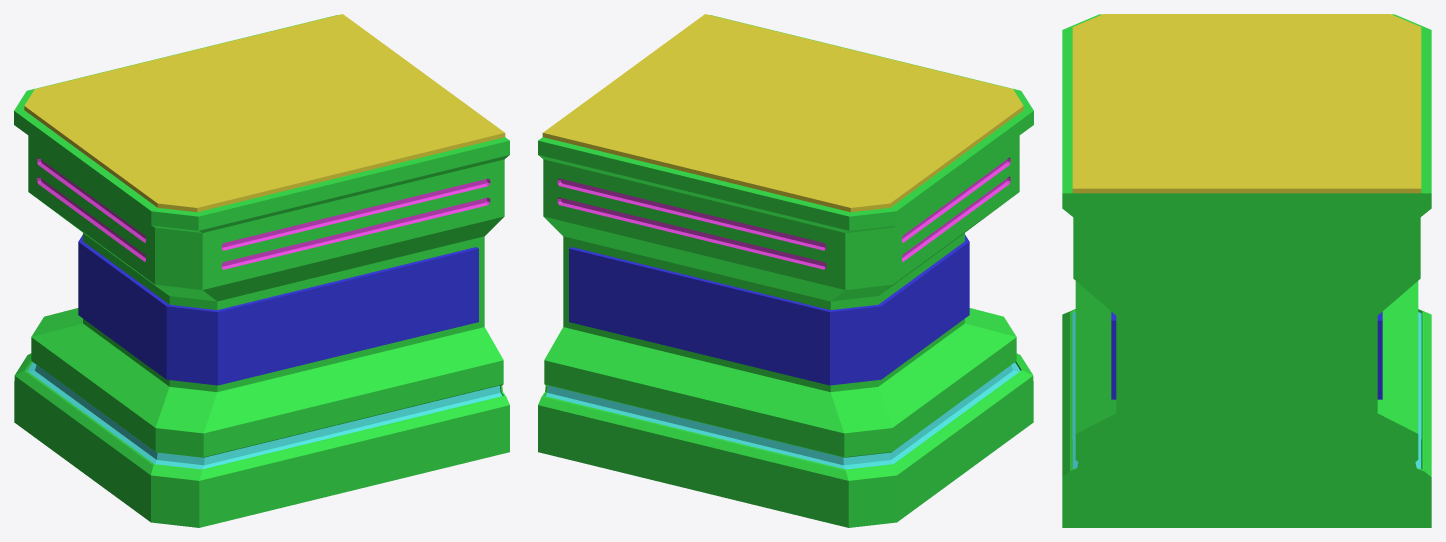
Rendered from Bar_Table_01_Edge_B.fbx.
3 renders of one model, left to right at view 1: azimuth 30°, elevation 25°; view 2: azimuth 150°, elevation 25°; view 3: azimuth 270°, elevation 25°, orthographic. The views are drawn at different scales.
Visible parts, largest first — view 1: Bar_Table_01_Edge_B; view 2: Bar_Table_01_Edge_B; view 3: Bar_Table_01_Edge_B.
Boxes of the visible parts, bbox=[...] form: Bar_Table_01_Edge_B: bbox=[14, 14, 509, 527]; Bar_Table_01_Edge_B: bbox=[538, 14, 1033, 527]; Bar_Table_01_Edge_B: bbox=[1062, 14, 1431, 527].
Size of the model in its own units: 105 by 92.71 by 91.44.
